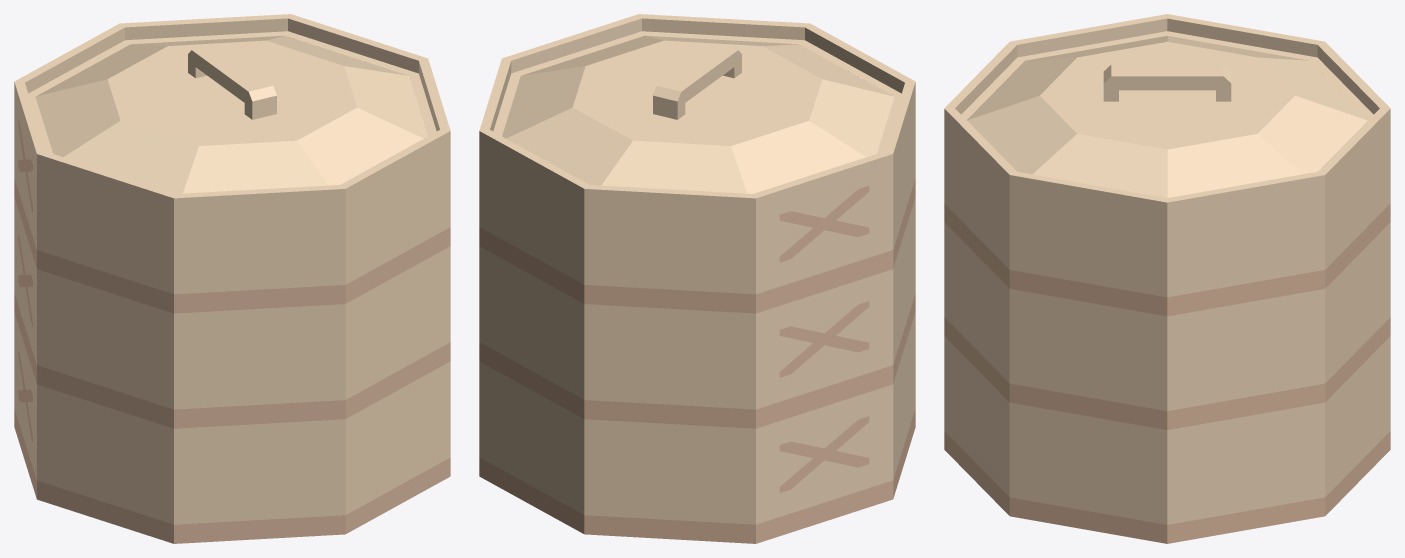
3 renders of one model, left to right at view 1: azimuth 30°, elevation 25°; view 2: azimuth 150°, elevation 25°; view 3: azimuth 270°, elevation 25°, orthographic.
Visible parts, largest first — view 1: layer (×3), lid; view 2: layer (×3), lid; view 3: layer (×3), lid.
Boxes of the visible parts, x1,y1,x2,y2 form: layer (×3): [14, 14, 450, 543]; lid: [35, 35, 427, 193]; layer (×3): [479, 14, 915, 543]; lid: [502, 35, 894, 193]; layer (×3): [944, 14, 1390, 543]; lid: [967, 36, 1367, 197].
Bounding box in the file's own units: 0.64 × 0.5999 × 0.64.
